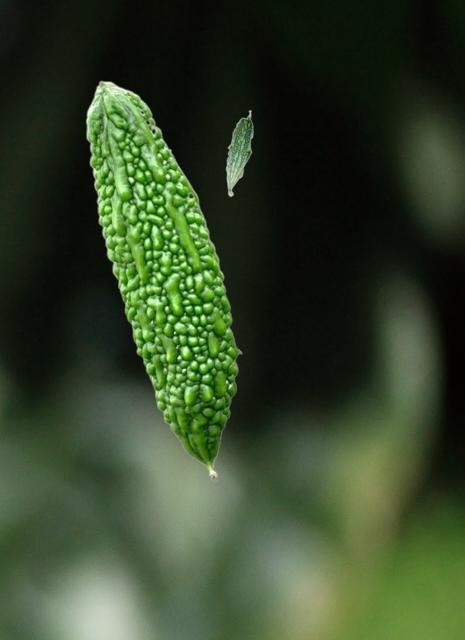ampalaya: (83, 78, 244, 484), (225, 109, 253, 197)
